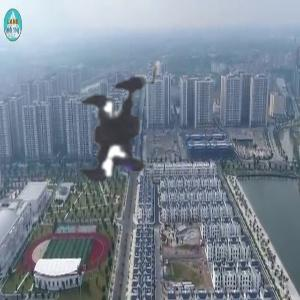drone: (9, 23, 229, 243)
